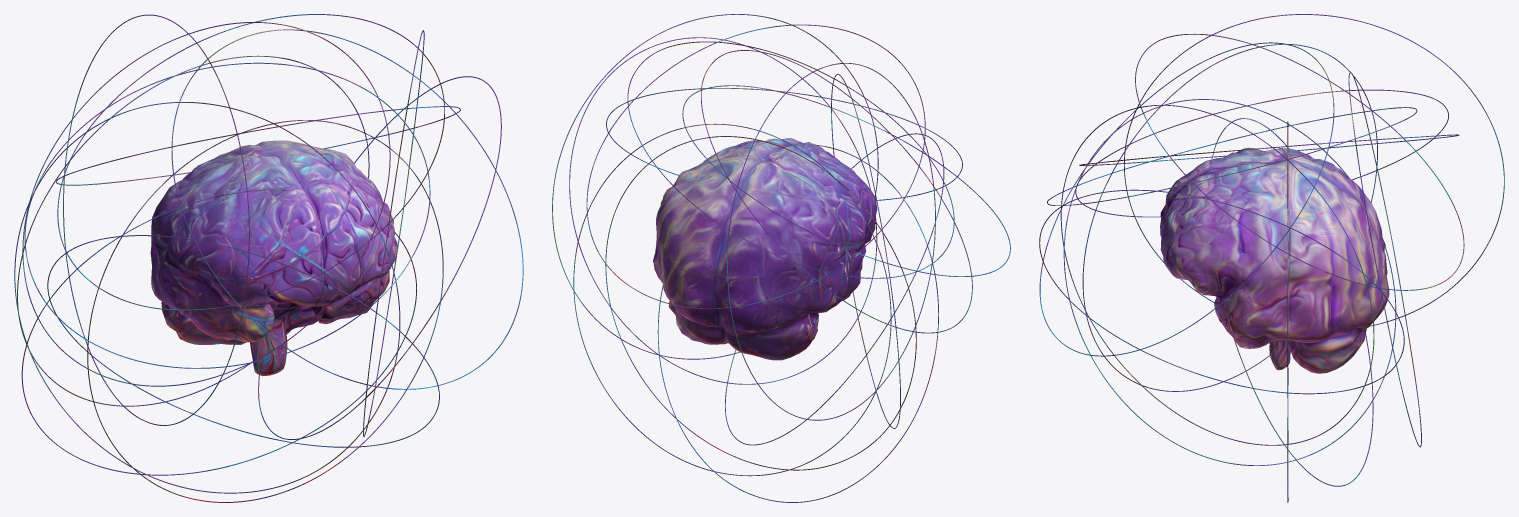
The model's file is result.gltf.
The picture shows the model from 3 angles, left to right: view 1: azimuth 30°, elevation 25°; view 2: azimuth 150°, elevation 25°; view 3: azimuth 270°, elevation 25°; orthographic projection. The views are drawn at different scales.
Visible parts, largest first — view 1: nodes[0]; view 2: nodes[0]; view 3: nodes[0].
Boxes of the visible parts, left/top/right/bottom form: nodes[0]: left=14, top=14, right=523, bottom=502; nodes[0]: left=552, top=14, right=1010, bottom=502; nodes[0]: left=1039, top=14, right=1504, bottom=502.
Bounding box in the file's own units: 1.93 × 2 × 1.92.
Materials: 1 (1 with a texture image).
